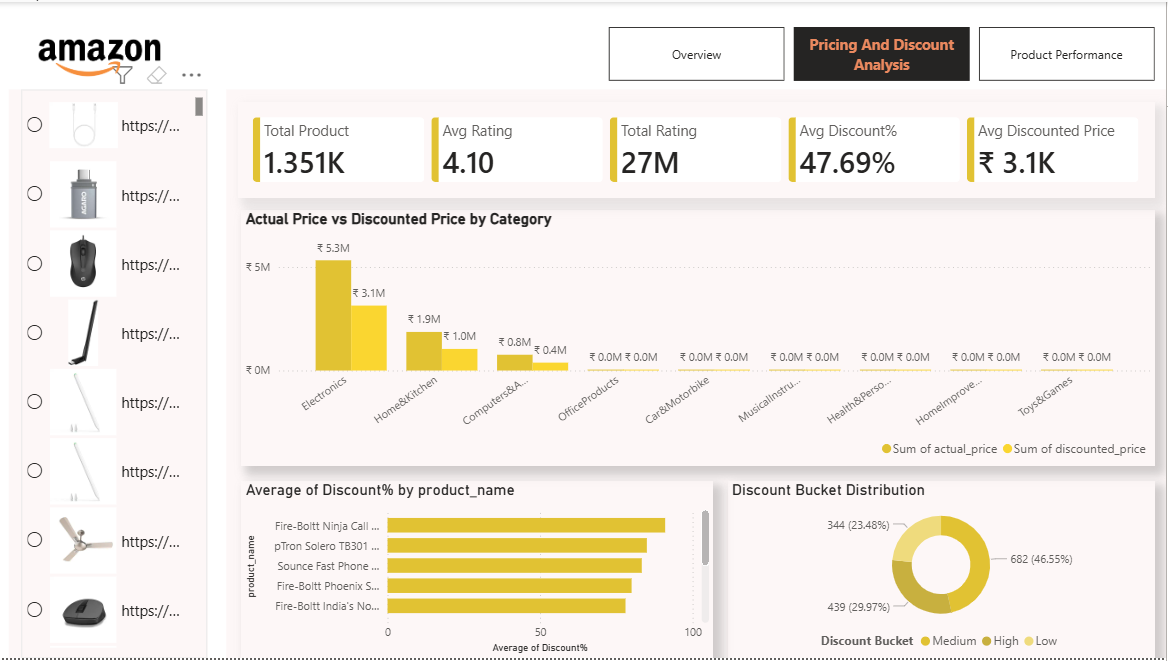

What the dashboard file says about the page in this screenshot:
{"tool":"powerbi","page":{"name":"Pricing And Discount Analysis","canvas":[1280,720],"ordinal":1},"visuals":[{"type":"shape","box":[9.6,96.1,218.2,624.4],"z":0},{"type":"shape","box":[248.4,96.1,1031.9,624.4],"z":1000},{"type":"cardVisual","fields":{"Data":["Count(amazon.product_id)","Avg(amazon.rating)","Sum(amazon.rating_count)","Avg(amazon.discount_percentage)","Avg(amazon.discounted_price)"]},"box":[260.7,109.8,1007.2,105.7],"z":2000},{"type":"clusteredColumnChart","title":"Actual Price vs Discounted Price by Category","fields":{"Category":["amazon.category.1"],"Y":["Sum(amazon.actual_price)","Sum(amazon.discounted_price)"]},"box":[264.8,227.8,1003.1,281.3],"z":3000},{"type":"listSlicer","fields":{"Values":["amazon.img_link"]},"box":[23.3,96.1,204.5,624.4],"z":4000},{"type":"image","box":[0,17.8,218.2,78.2],"z":5000},{"type":"barChart","fields":{"Category":["amazon.product_name"],"Y":["Avg(amazon.Discount%)"]},"box":[264.8,525.6,518.7,194.9],"z":6000},{"type":"donutChart","title":"Discount Bucket Distribution","fields":{"Category":["amazon.Discount Bucket"],"Y":["CountNonNull(amazon.Discount Bucket)"]},"box":[798.6,525.6,469.3,194.9],"z":7000},{"type":"pageNavigator","box":[668.3,27.4,599.7,59],"z":8000}]}

Visuals, with their boxes on the page's 1280x720 design canvas (x1, y1, x2, y2). These are canvas units, not pixel positions in the 1168x661 screenshot, which may show the page scaled, cropped or inside an application window:
shape: BBox(10, 96, 228, 720)
shape: BBox(248, 96, 1280, 720)
cardVisual - Count(amazon.product_id) x Avg(amazon.rating): BBox(261, 110, 1268, 216)
"Actual Price vs Discounted Price by Category" clusteredColumnChart: BBox(265, 228, 1268, 509)
listSlicer - amazon.img_link: BBox(23, 96, 228, 720)
image: BBox(0, 18, 218, 96)
barChart - amazon.product_name x Avg(amazon.Discount%): BBox(265, 526, 784, 720)
"Discount Bucket Distribution" donutChart: BBox(799, 526, 1268, 720)
pageNavigator: BBox(668, 27, 1268, 86)
